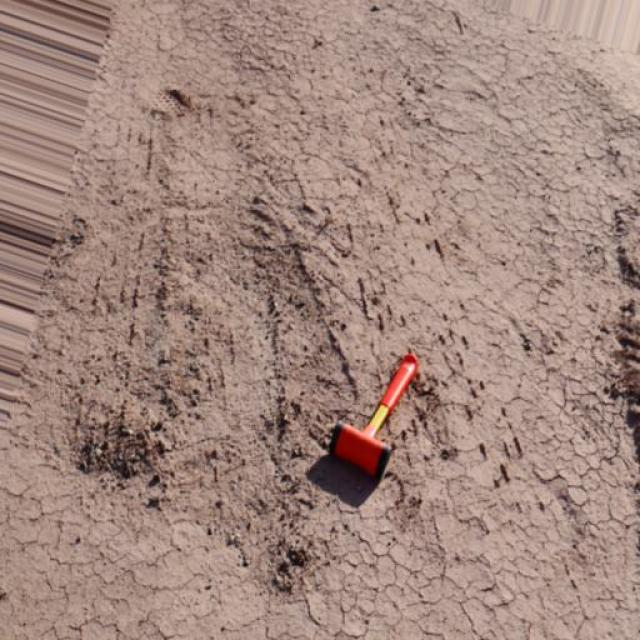mallet: (326, 351, 420, 481)
